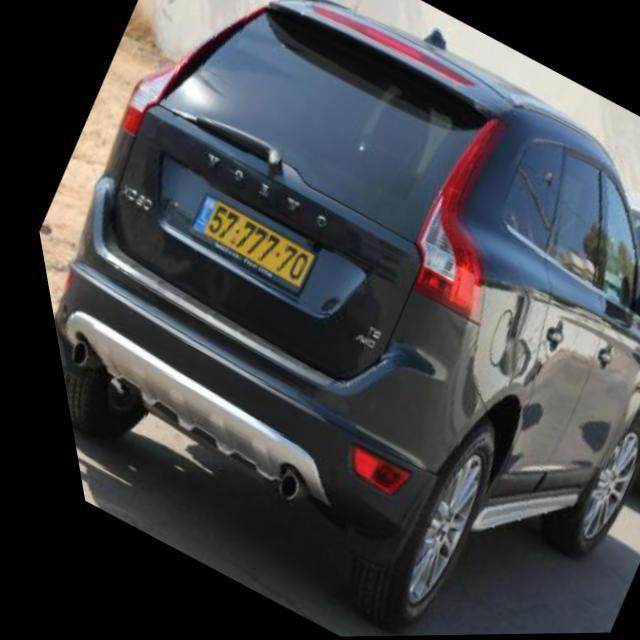license_plate: (174, 192, 316, 300)
